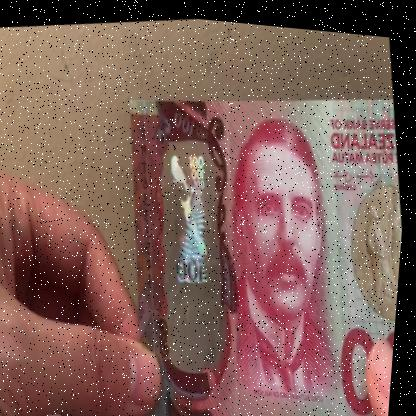100F: (152, 139, 235, 347)
